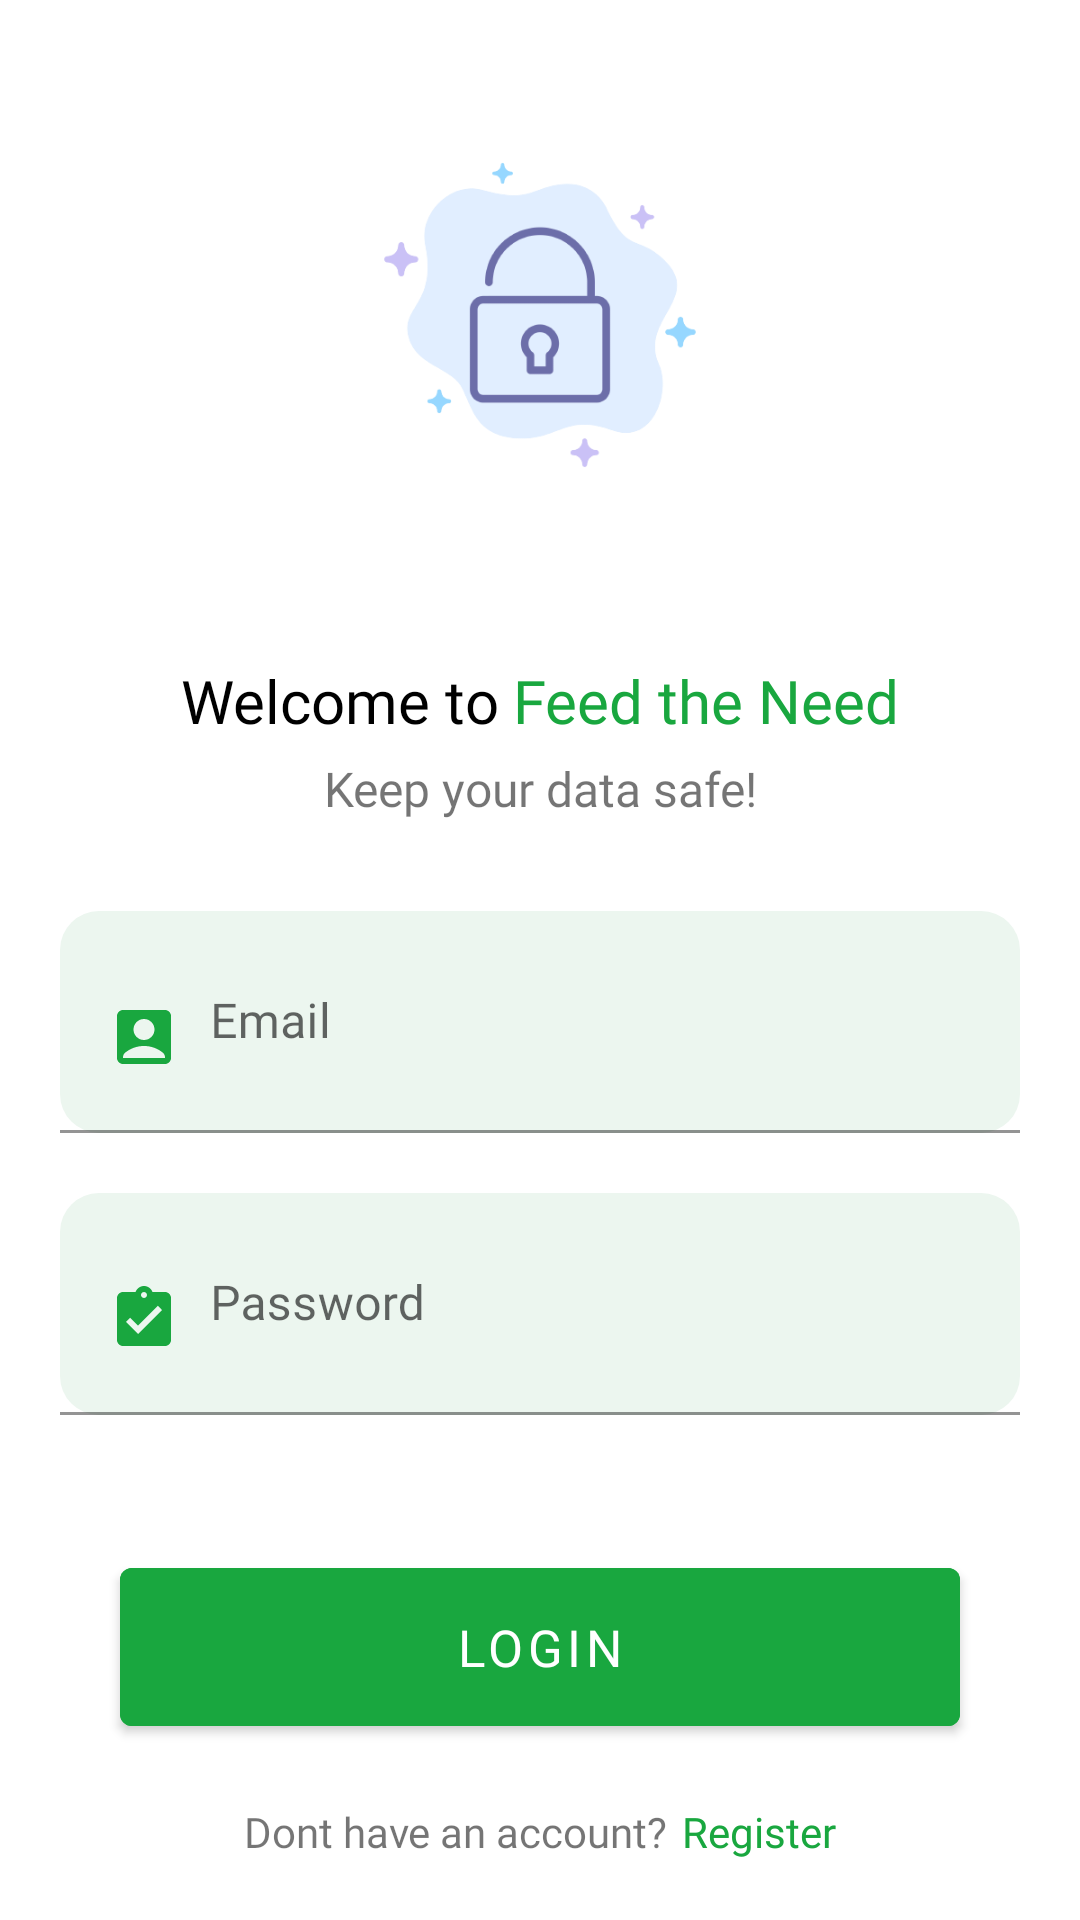

Named icons in this screenshot (1080px x 1920px) and their bounding boxes, (left=x1, top=y1, right=x2, bottom=y2):
login: (left=384, top=163, right=696, bottom=467)
